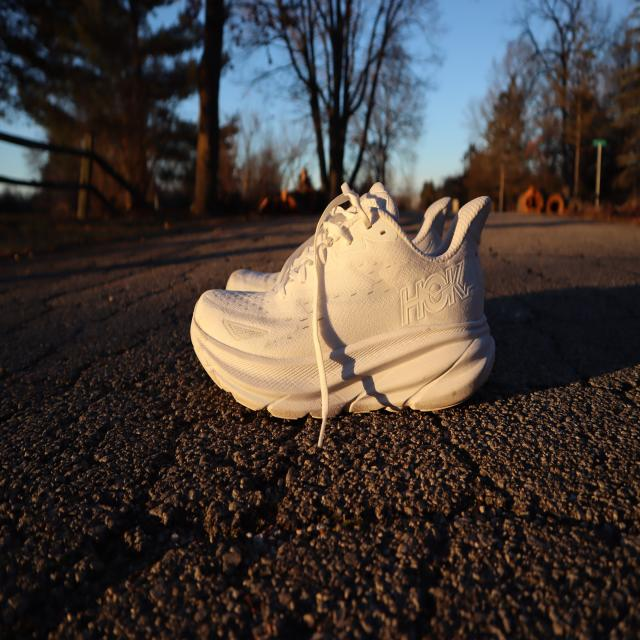hoka logo: (387, 250, 483, 337)
